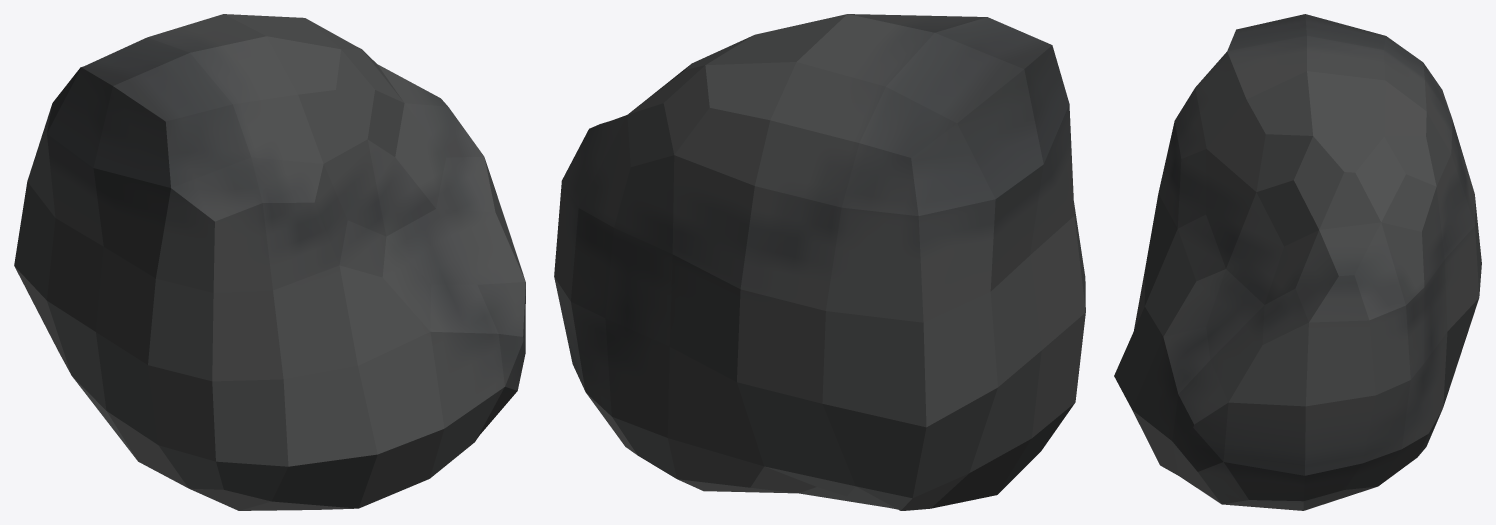
File: Projectile_Rock_1_S.fbx
3 views of the same model, side by side, from view 1: azimuth 30°, elevation 25°; view 2: azimuth 150°, elevation 25°; view 3: azimuth 270°, elevation 25° (orthographic). The views are drawn at different scales.
Visible parts, largest first — view 1: rock_1_S; view 2: rock_1_S; view 3: rock_1_S.
Boxes of the visible parts, <box> form: rock_1_S: <box>14,14,525,510</box>; rock_1_S: <box>554,14,1085,510</box>; rock_1_S: <box>1114,14,1481,510</box>.
Bounding box in the file's own units: 26.82 × 27.1 × 22.84.
